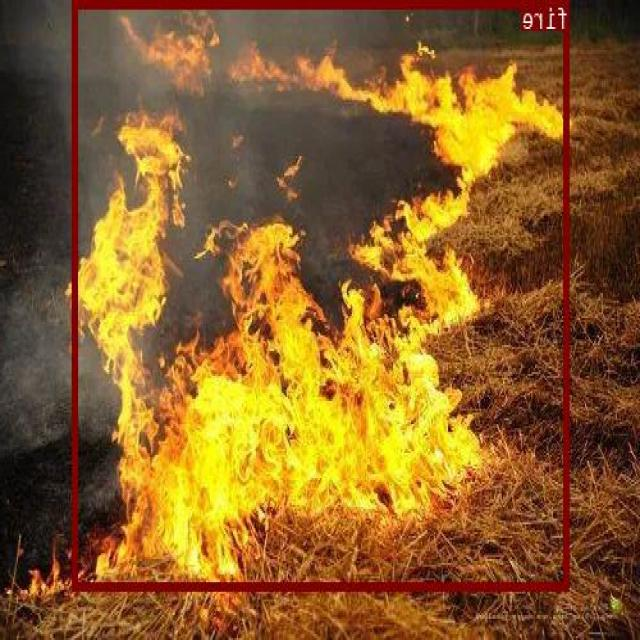fire: (74, 0, 570, 590)
